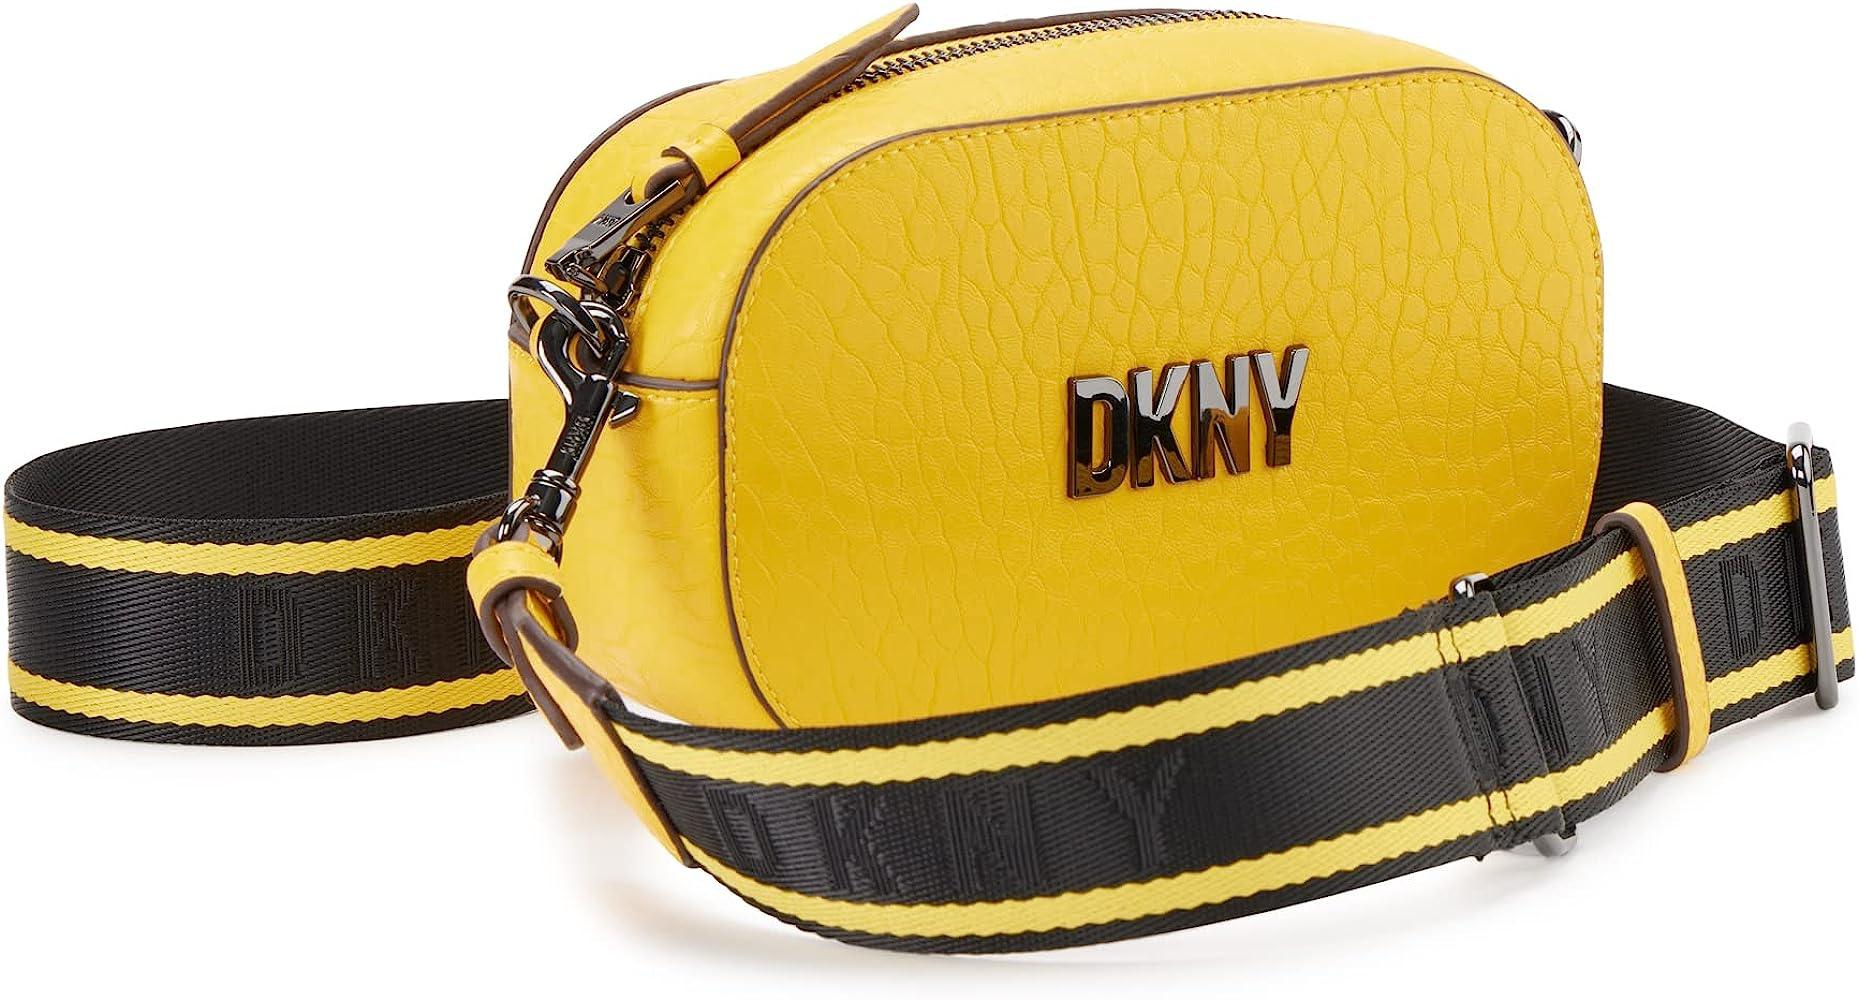DKNY: (1066, 344, 1311, 500)
